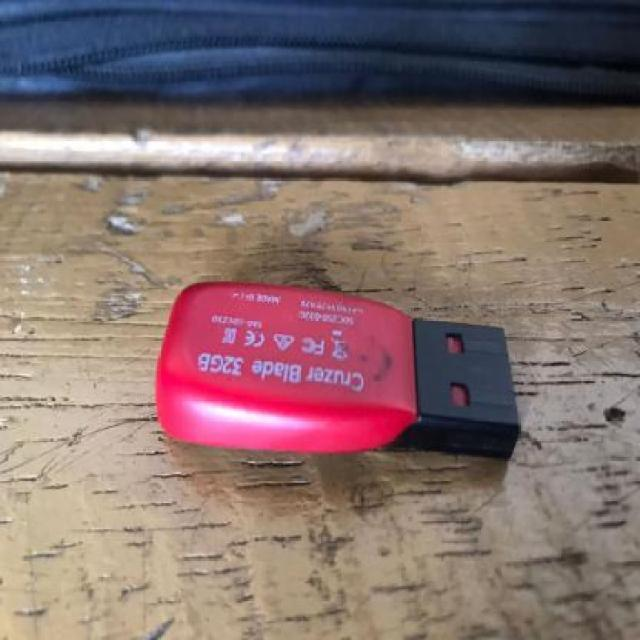Flashdisk: (155, 274, 536, 481)
